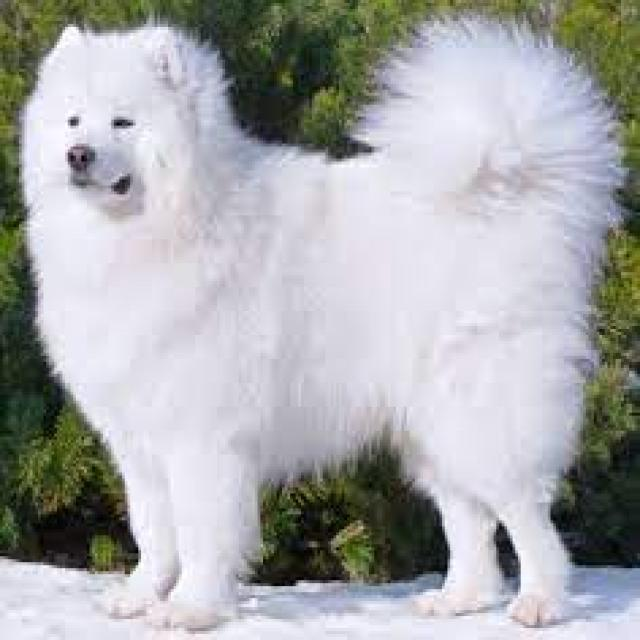dogs: (22, 18, 640, 633)
